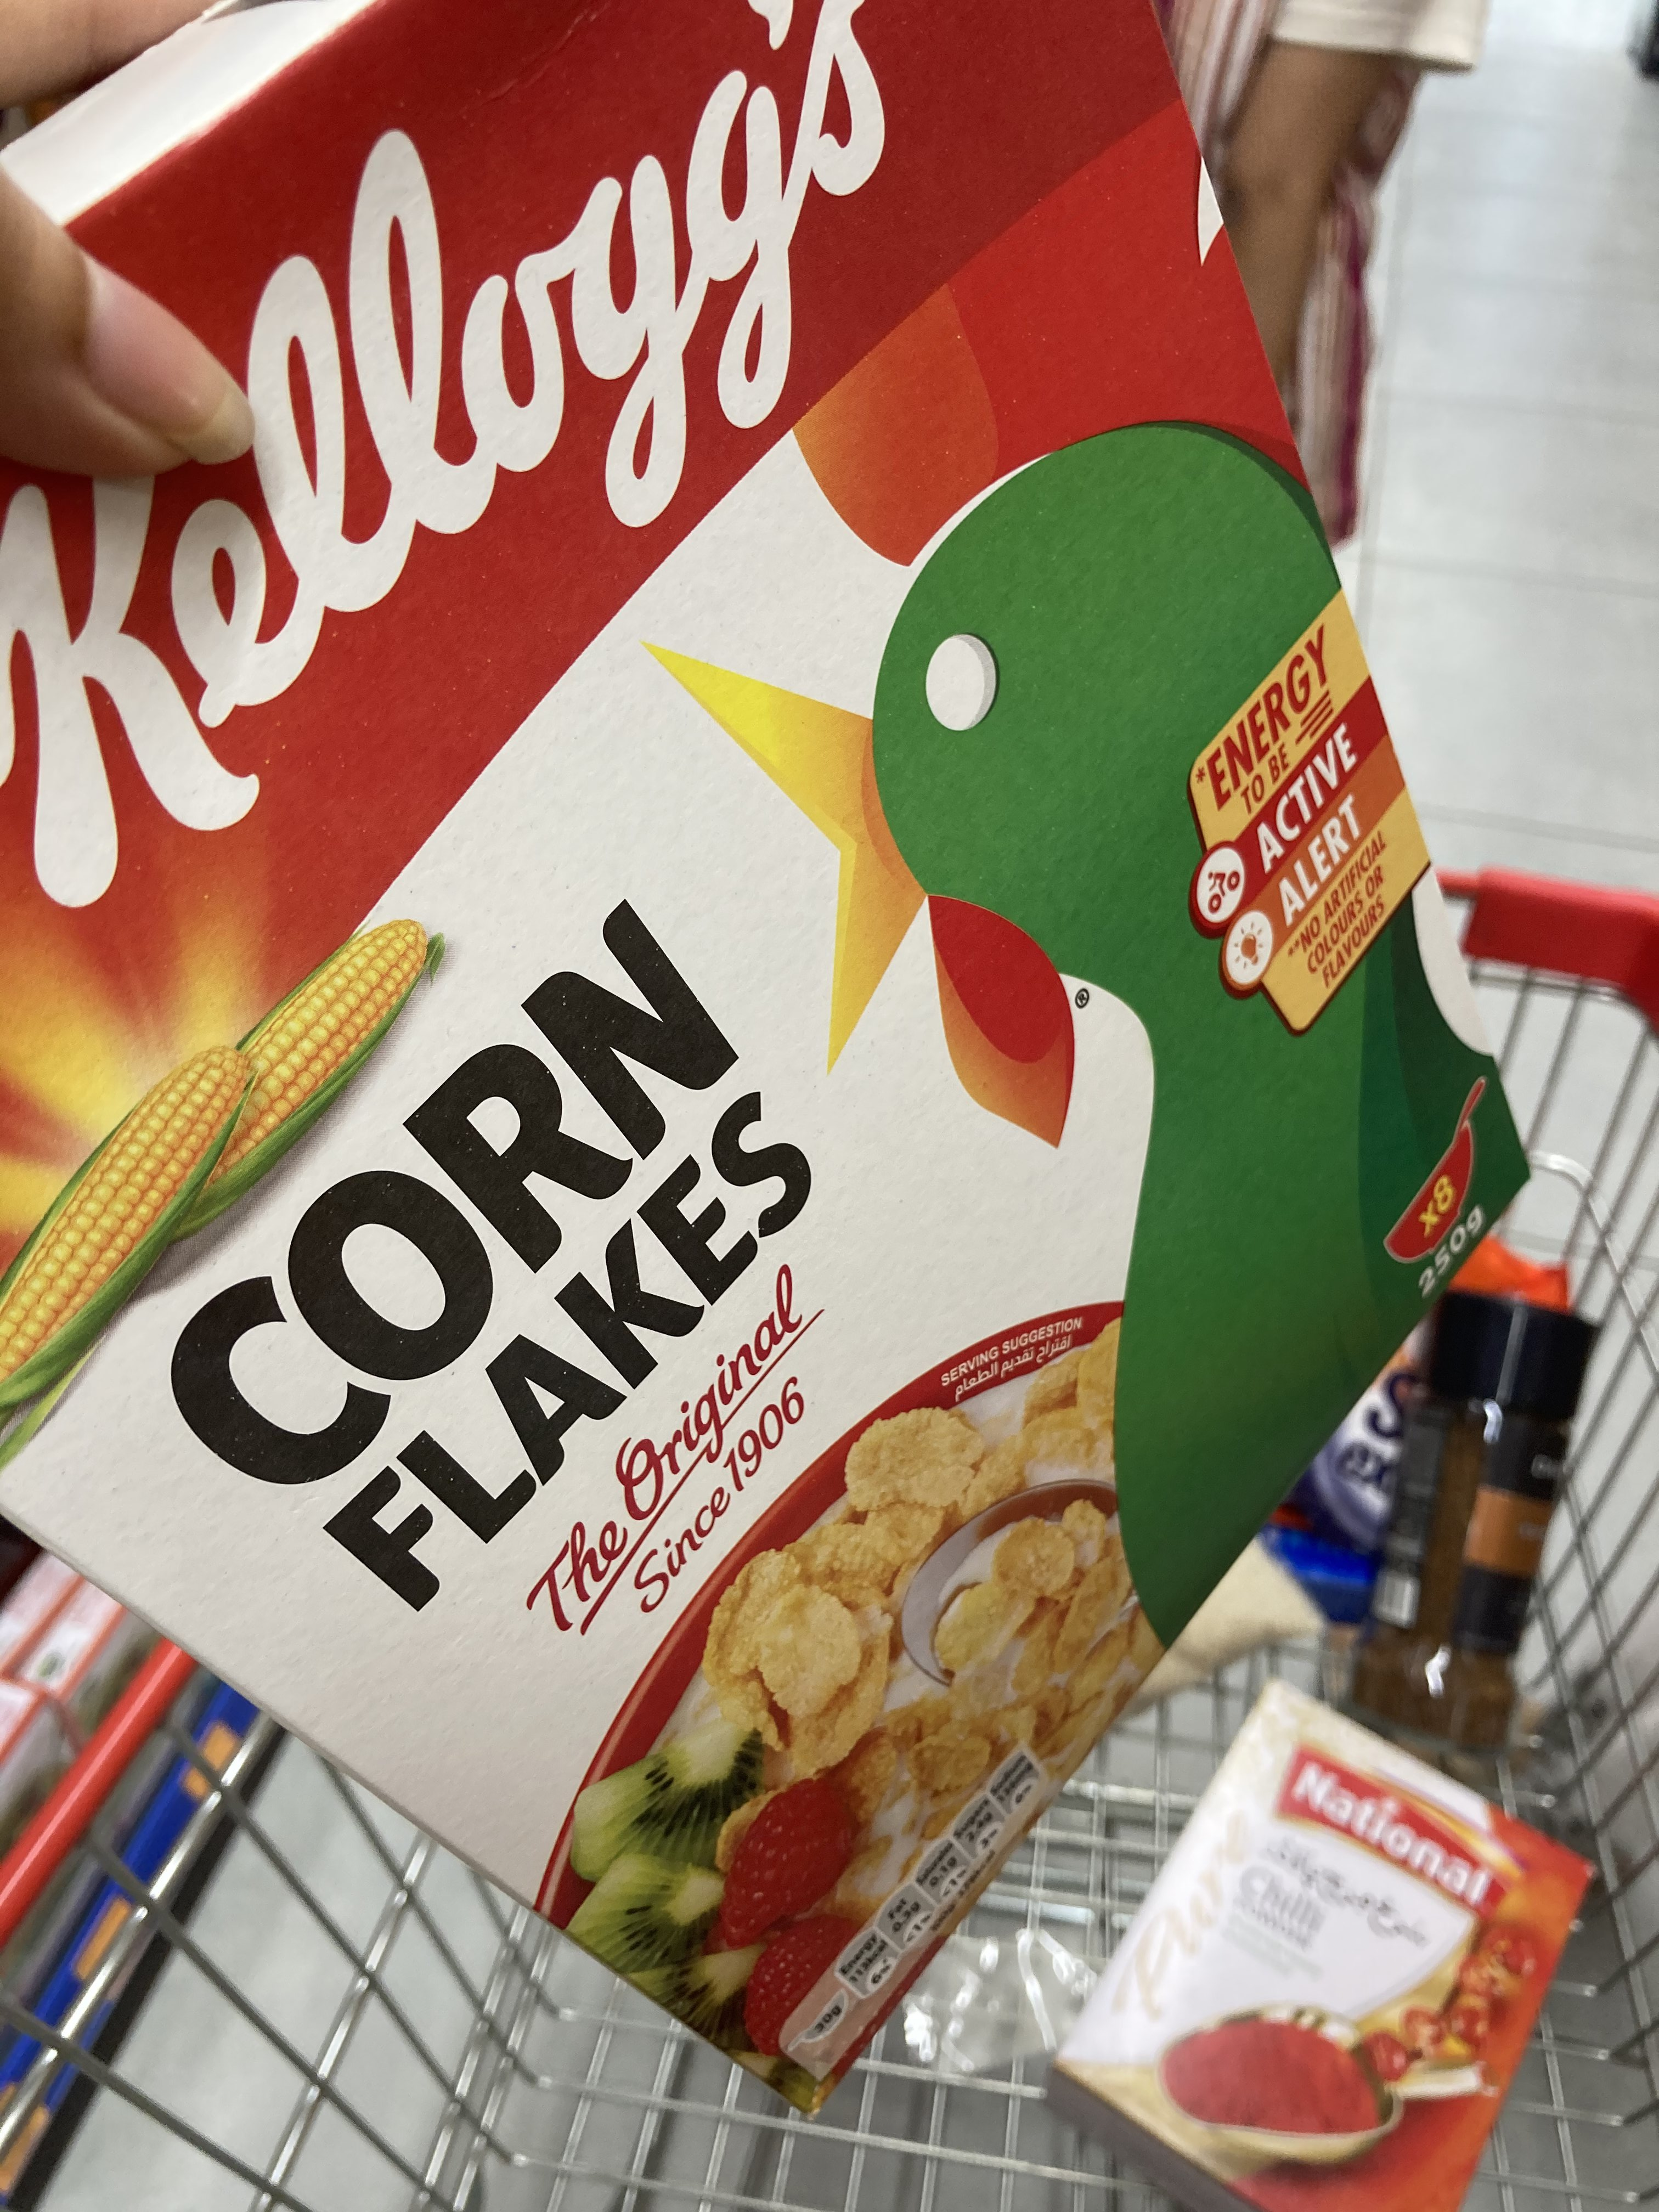Kellogg's Corn Flakes: (9, 9, 1530, 2111)
